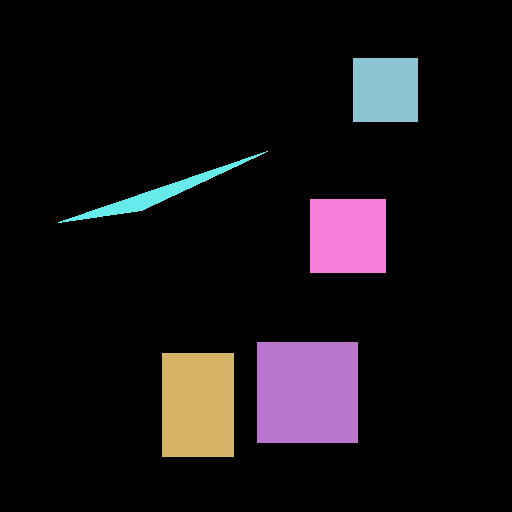rectangle: (162, 353, 233, 456)
square: (257, 342, 357, 442), (310, 199, 385, 272), (353, 58, 417, 121)
triangle: (58, 151, 267, 222)
